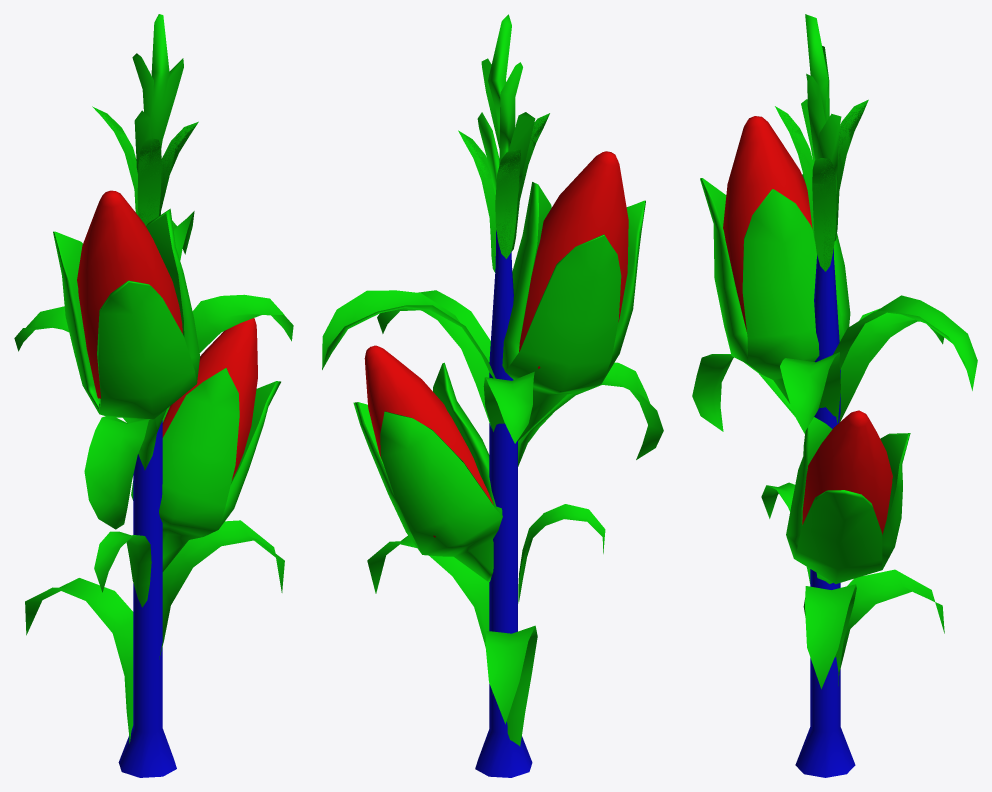
Rendered from Corn_5.fbx.
The picture shows the model from 3 angles, left to right: view 1: azimuth 30°, elevation 25°; view 2: azimuth 150°, elevation 25°; view 3: azimuth 270°, elevation 25°; orthographic projection.
Visible parts, largest first — view 1: BSTC_Corn_5; view 2: BSTC_Corn_5; view 3: BSTC_Corn_5.
Boxes of the visible parts, x1,y1,x2,y2 form: BSTC_Corn_5: (14,14,293,777); BSTC_Corn_5: (322,14,663,777); BSTC_Corn_5: (692,14,977,777).
Size of the model in its own units: 63.4 by 181 by 61.92.
